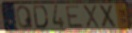4: (52, 4, 66, 30)
D: (32, 5, 49, 29)
E: (65, 5, 85, 29)
Q: (15, 4, 35, 30)
X: (98, 4, 118, 29), (82, 5, 101, 29)
